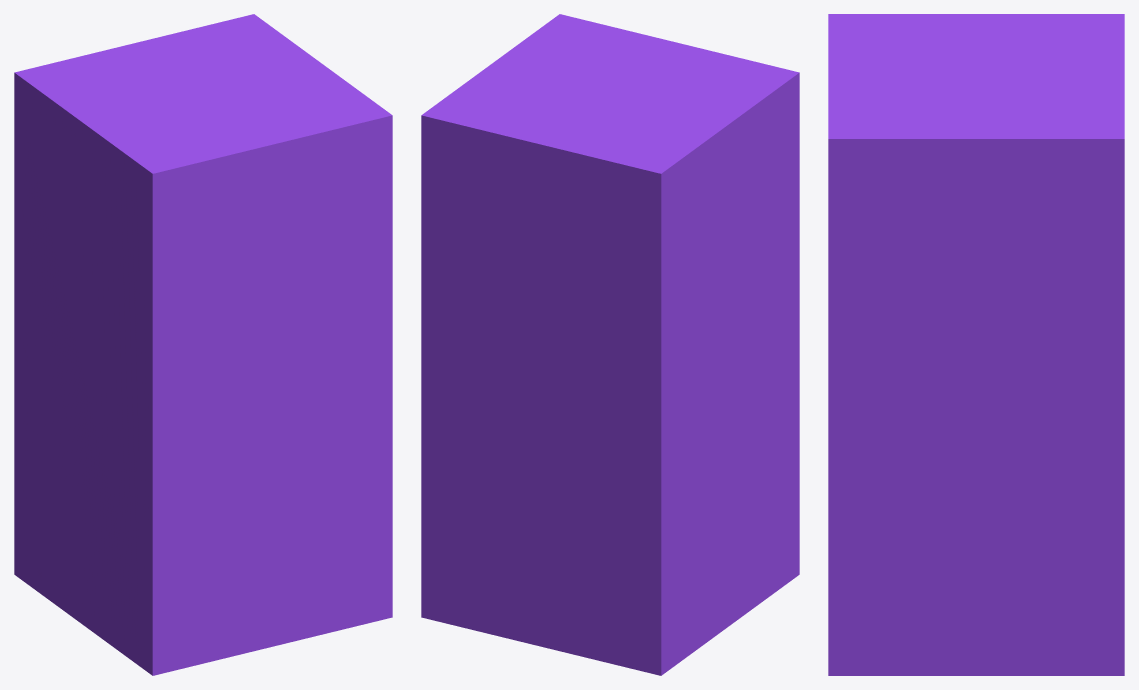
The model's file is MagentaThickEdge.fbx.
The picture shows the model from 3 angles, left to right: view 1: azimuth 30°, elevation 25°; view 2: azimuth 150°, elevation 25°; view 3: azimuth 270°, elevation 25°; orthographic projection. The views are drawn at different scales.
Parts seen in each view (by area): view 1: LED option1.007; view 2: LED option1.007; view 3: LED option1.007.
Boxes of the visible parts, left/top/right/bottom form: LED option1.007: left=14, top=14, right=392, bottom=675; LED option1.007: left=421, top=14, right=799, bottom=675; LED option1.007: left=828, top=14, right=1124, bottom=675.
Bounding box in the file's own units: 100 × 200 × 100.
